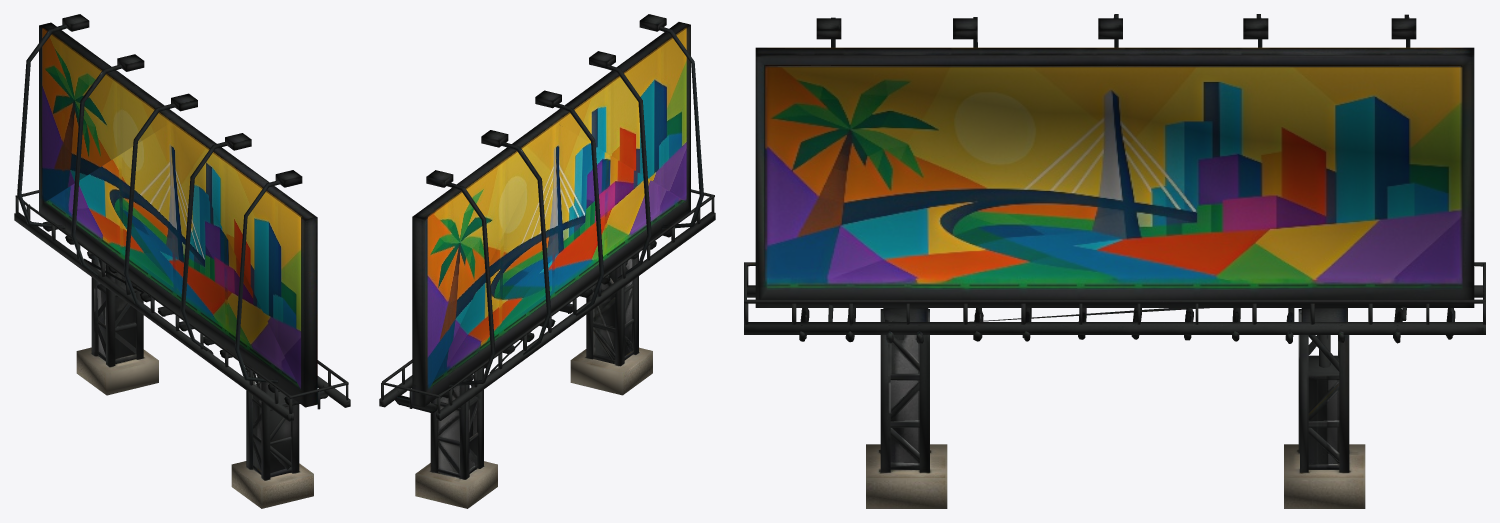
The model's file is billboard+3d+model.glb.
3 renders of one model, left to right at view 1: azimuth 30°, elevation 25°; view 2: azimuth 150°, elevation 25°; view 3: azimuth 270°, elevation 25°, orthographic. The views are drawn at different scales.
Parts seen in each view (by area): view 1: tripo_node_356da565-de4b-4b1f-9d3d-2a0a1f9d750d; view 2: tripo_node_356da565-de4b-4b1f-9d3d-2a0a1f9d750d; view 3: tripo_node_356da565-de4b-4b1f-9d3d-2a0a1f9d750d.
Boxes of the visible parts, x1,y1,x2,y2 form: tripo_node_356da565-de4b-4b1f-9d3d-2a0a1f9d750d: (14, 14, 350, 508); tripo_node_356da565-de4b-4b1f-9d3d-2a0a1f9d750d: (379, 14, 715, 508); tripo_node_356da565-de4b-4b1f-9d3d-2a0a1f9d750d: (744, 14, 1485, 508).
Bounding box in the file's own units: 0.2012 × 0.6816 × 0.998.
Materials: 1 (1 with a texture image).
